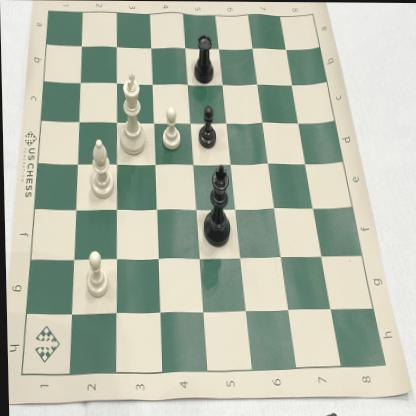black-king: (199, 163, 234, 252)
black-pawn: (196, 105, 216, 153)
black-rook: (190, 32, 216, 86)
white-bishop: (86, 137, 116, 200)
white-king: (119, 71, 147, 158)
white-pawn: (84, 248, 108, 300), (160, 103, 182, 152)
